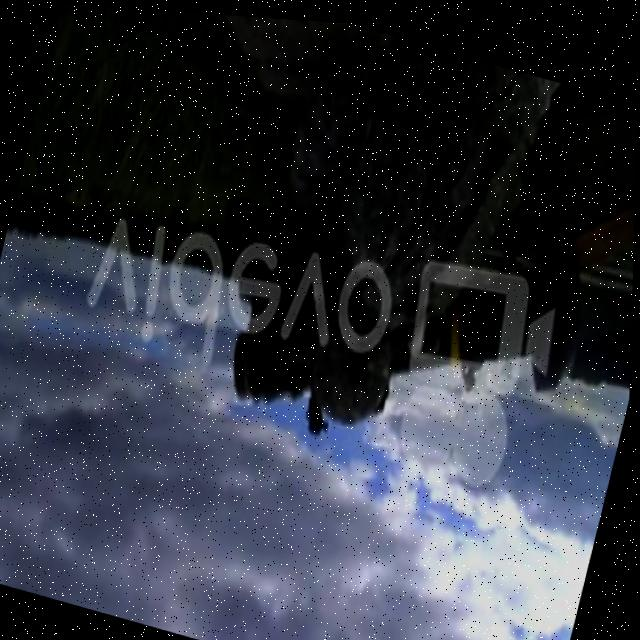rocket: (207, 153, 613, 487)
